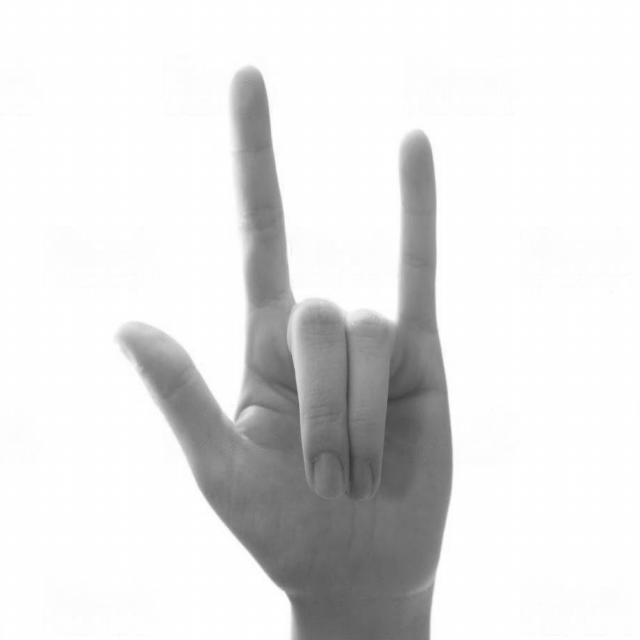i love you: (108, 57, 459, 616)
